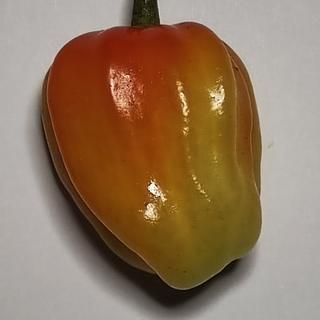Grade-A: (31, 13, 266, 295)
